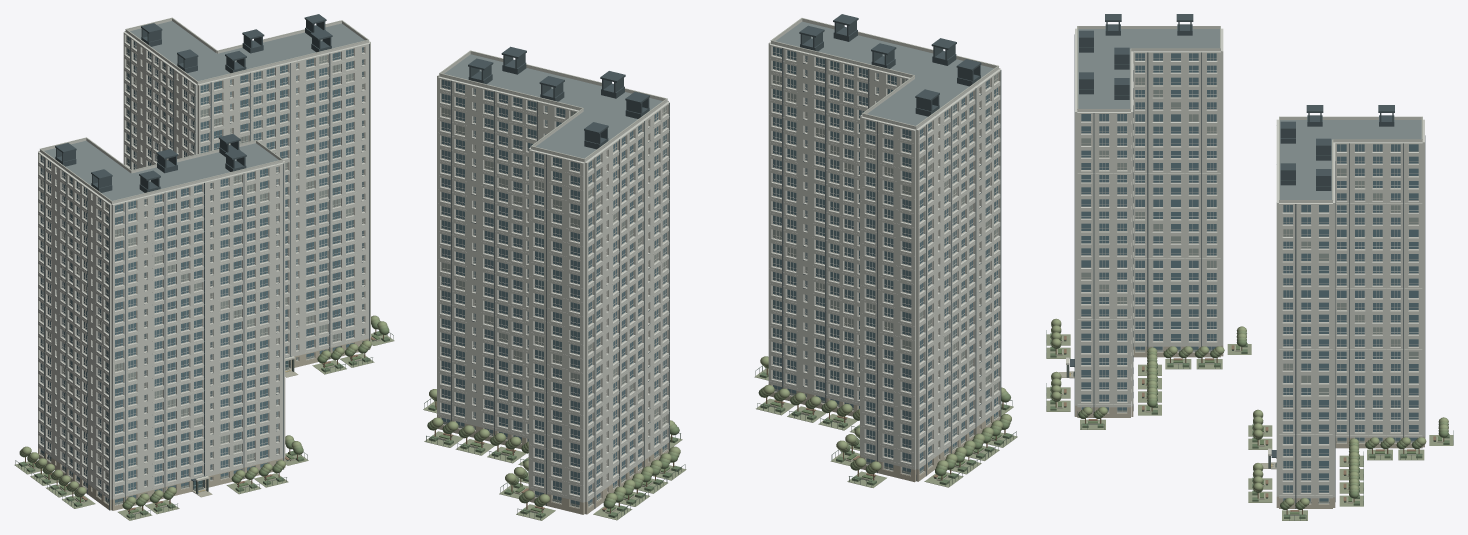
3 views of the same model, side by side, from view 1: azimuth 30°, elevation 25°; view 2: azimuth 150°, elevation 25°; view 3: azimuth 270°, elevation 25° (orthographic). The views are drawn at different scales.
Parts seen in each view (by area): view 1: korean-facade-parts-d9dcd3, korean-facade-surface-69858d, korean-facade-parts-e0dfd3, korean-facade-parts-505f63, new-2, korean-facade-surface-9eaaa4, korean-facade-parts-9ba48a, korean-facade-parts-c5c0ae, korean-facade-parts-b8bcb2, korean-facade-parts-94a17c, korean-facade-parts-778b69, korean-facade-parts-718669 (+1 smaller); view 2: korean-facade-parts-d9dcd3, korean-facade-surface-69858d, korean-facade-parts-e0dfd3, korean-facade-parts-505f63, new-2, korean-facade-parts-9ba48a, korean-facade-surface-9eaaa4, korean-facade-parts-94a17c, korean-facade-parts-c5c0ae, korean-facade-parts-718669, korean-facade-parts-b8bcb2, korean-facade-parts-778b69 (+3 smaller); view 3: korean-facade-parts-d9dcd3, korean-facade-surface-69858d, korean-facade-parts-e0dfd3, new-2, korean-facade-parts-505f63, korean-facade-parts-9ba48a, korean-facade-parts-94a17c, korean-facade-surface-9eaaa4, korean-facade-surface-d9dcd3, korean-facade-parts-c5c0ae, korean-facade-parts-b8bcb2, korean-facade-parts-889976 (+2 smaller).
Part boxes in pixels (bbox=[...]): korean-facade-parts-d9dcd3: bbox=[38, 18, 370, 499]; korean-facade-surface-69858d: bbox=[40, 36, 363, 502]; korean-facade-parts-e0dfd3: bbox=[40, 35, 364, 494]; korean-facade-parts-505f63: bbox=[44, 14, 369, 510]; new-2: bbox=[44, 21, 364, 503]; korean-facade-surface-9eaaa4: bbox=[40, 55, 363, 480]; korean-facade-parts-9ba48a: bbox=[14, 333, 394, 520]; korean-facade-parts-c5c0ae: bbox=[38, 337, 370, 510]; korean-facade-parts-b8bcb2: bbox=[40, 17, 368, 201]; korean-facade-parts-94a17c: bbox=[21, 315, 387, 504]; korean-facade-parts-778b69: bbox=[19, 323, 389, 509]; korean-facade-parts-718669: bbox=[19, 331, 389, 518]; korean-facade-parts-d9dcd3: bbox=[437, 19, 1000, 502]; korean-facade-surface-69858d: bbox=[441, 47, 997, 504]; korean-facade-parts-e0dfd3: bbox=[441, 46, 998, 495]; korean-facade-parts-505f63: bbox=[451, 14, 1001, 508]; new-2: bbox=[444, 21, 993, 513]; korean-facade-parts-9ba48a: bbox=[423, 368, 1017, 520]; korean-facade-surface-9eaaa4: bbox=[441, 73, 997, 424]; korean-facade-parts-94a17c: bbox=[429, 356, 1011, 503]; korean-facade-parts-c5c0ae: bbox=[437, 383, 1000, 514]; korean-facade-parts-718669: bbox=[428, 372, 1012, 518]; korean-facade-parts-b8bcb2: bbox=[439, 18, 998, 159]; korean-facade-parts-778b69: bbox=[427, 366, 1010, 508]; korean-facade-parts-d9dcd3: bbox=[1075, 26, 1424, 498]; korean-facade-surface-69858d: bbox=[1081, 53, 1418, 501]; korean-facade-parts-e0dfd3: bbox=[1081, 53, 1418, 493]; new-2: bbox=[1078, 29, 1421, 199]; korean-facade-parts-505f63: bbox=[1070, 14, 1425, 508]; korean-facade-parts-9ba48a: bbox=[1046, 334, 1453, 520]; korean-facade-parts-94a17c: bbox=[1051, 318, 1448, 505]; korean-facade-surface-9eaaa4: bbox=[1081, 77, 1418, 394]; korean-facade-surface-d9dcd3: bbox=[1081, 53, 1390, 501]; korean-facade-parts-c5c0ae: bbox=[1075, 345, 1424, 508]; korean-facade-parts-b8bcb2: bbox=[1077, 26, 1422, 200]; korean-facade-parts-889976: bbox=[1051, 324, 1448, 507].
Size of the model in its own units: 106 by 78.79 by 90.8.
